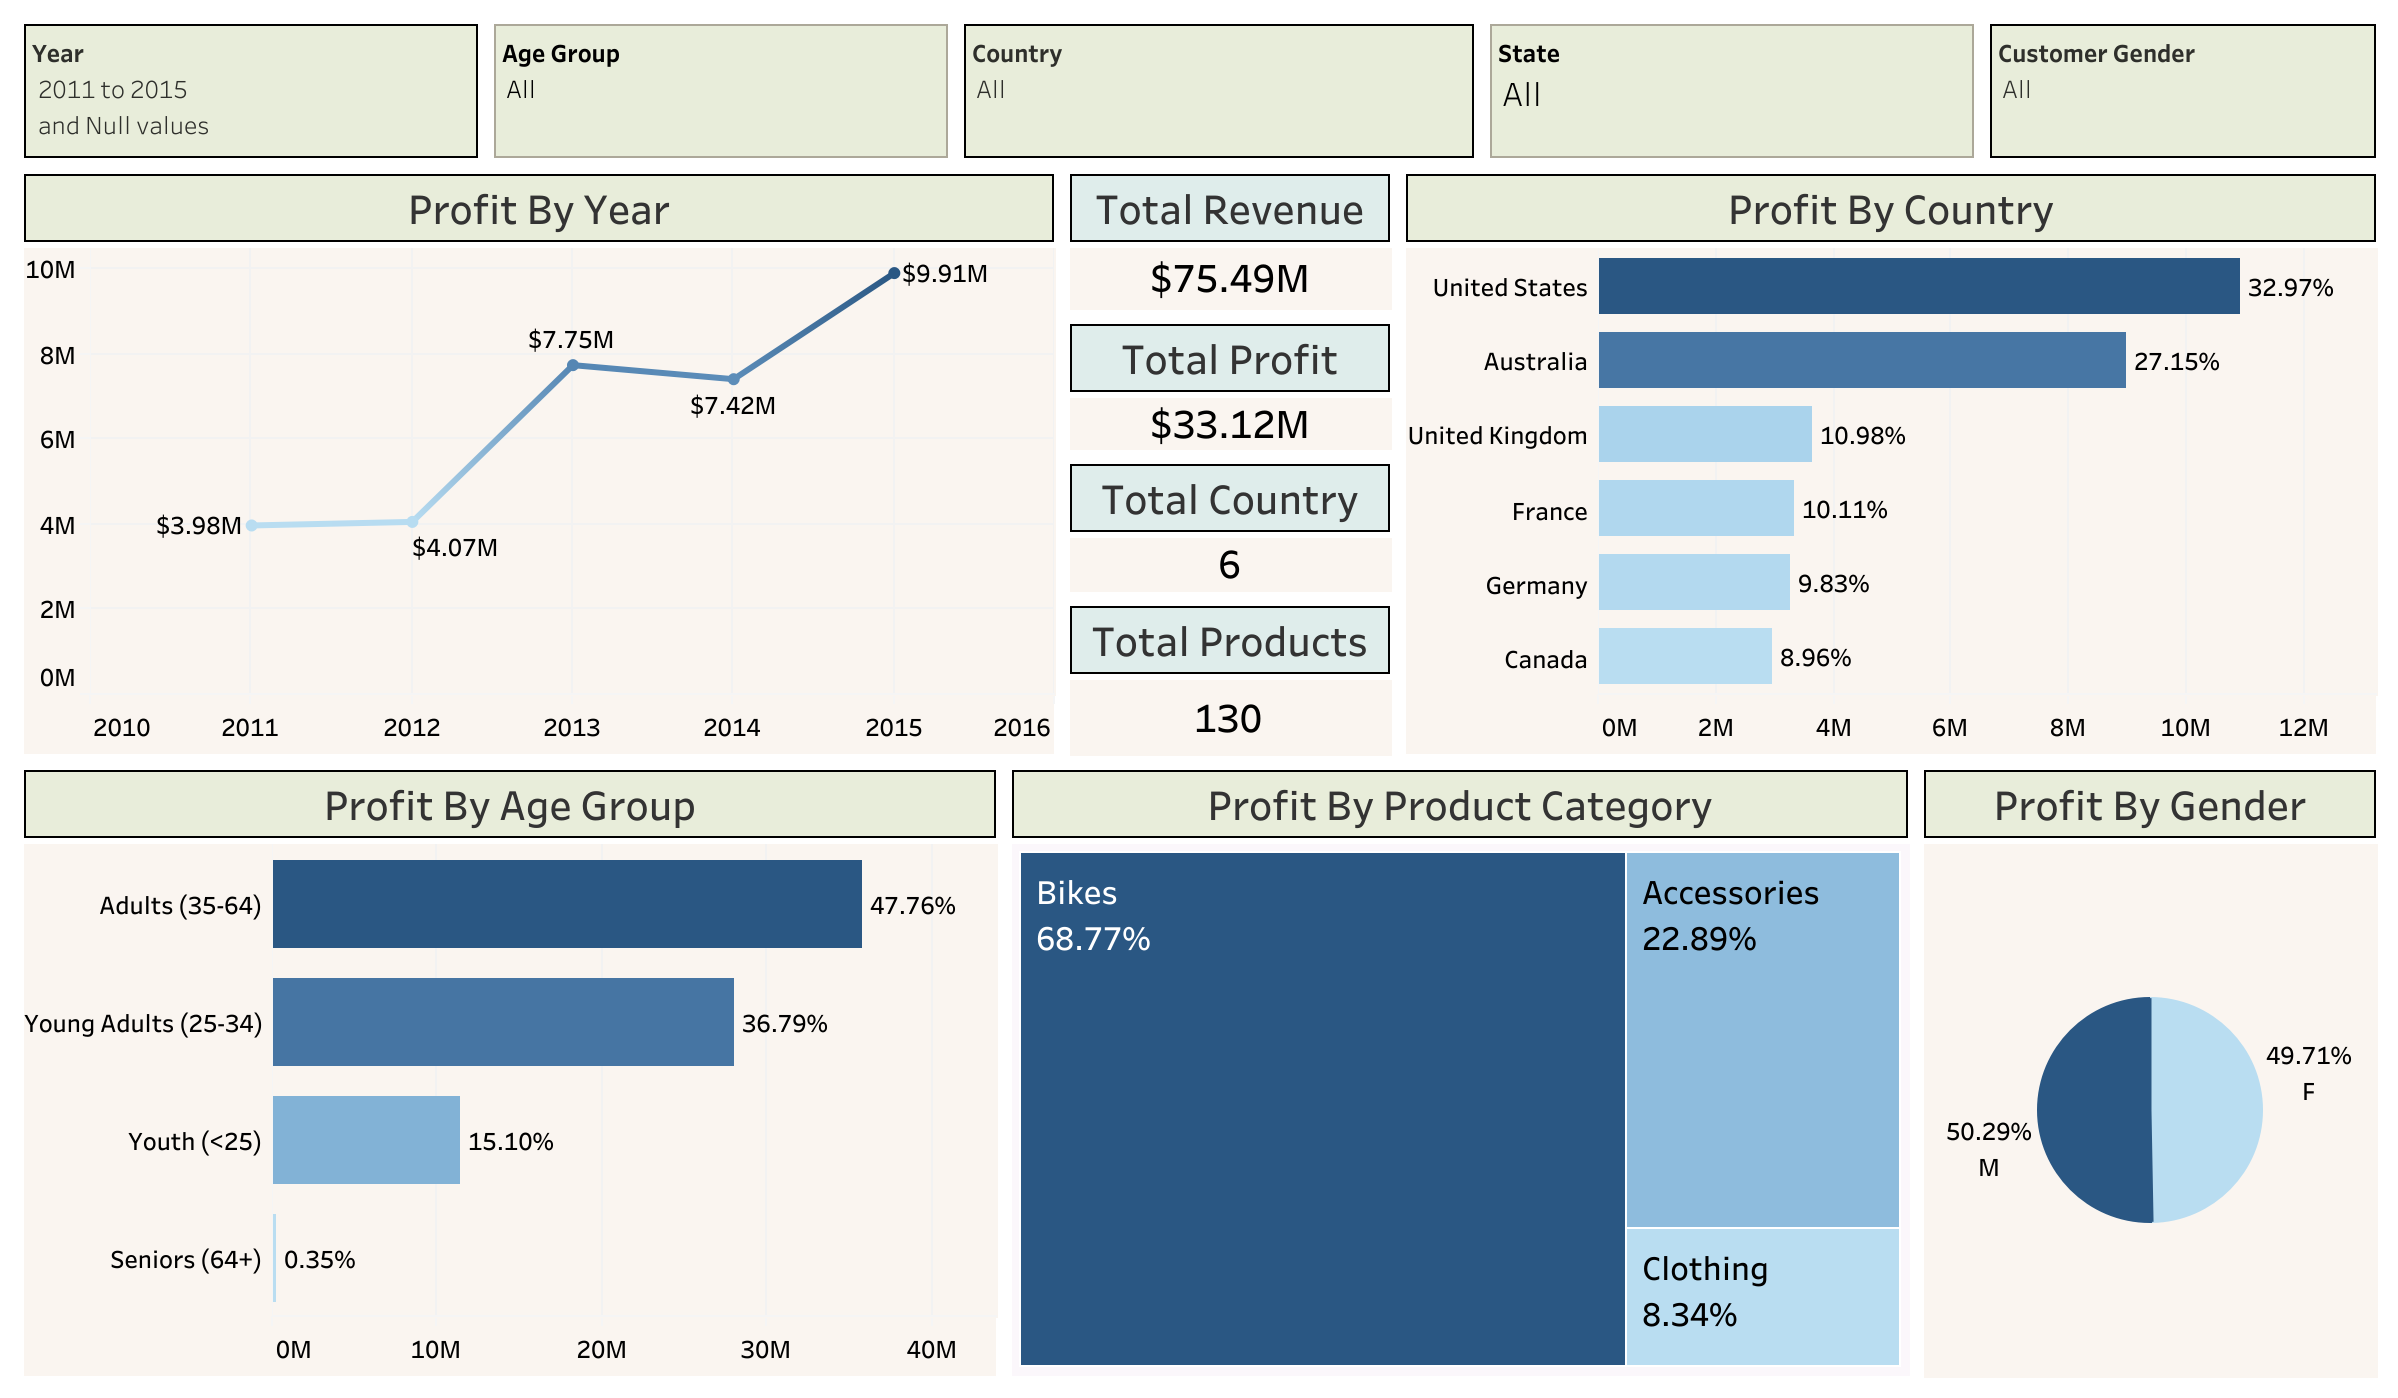

What the dashboard file says about the page in this screenshot:
{"tool":"tableau","page":{"name":"Profit Dashboard","canvas":[1200,700],"ordinal":0},"visuals":[{"type":"filter","title":"Profit By Age Group","param":"[federated.0jcqpx61dg5f2912zdho21k6b4t5].[none:Year:qk]","box":[8,8,235,75]},{"type":"filter","title":"Profit By Gender","param":"[federated.0jcqpx61dg5f2912zdho21k6b4t5].[none:Age_Group:nk]","box":[243,8,235,75]},{"type":"filter","title":"Profit By Age Group","param":"[federated.0jcqpx61dg5f2912zdho21k6b4t5].[none:Country:nk]","box":[478,8,263,75]},{"type":"filter","title":"Profit By Country","param":"[federated.0jcqpx61dg5f2912zdho21k6b4t5].[none:State:nk]","box":[741,8,250,75]},{"type":"filter","title":"Profit By Age Group","param":"[federated.0jcqpx61dg5f2912zdho21k6b4t5].[none:Customer_Gender:nk]","box":[991,8,201,75]},{"type":"worksheet","title":"Profit By Year","mark":"Automatic","rows":["Calculation_1047720274414673922"],"cols":["Year"],"box":[8,83,523,298]},{"type":"worksheet","title":"Total Revenue","mark":"Automatic","box":[531,83,168,75]},{"type":"worksheet","title":"Profit By Country","mark":"Automatic","rows":["Country"],"cols":["Calculation_1047720274414673922"],"box":[699,83,493,298]},{"type":"worksheet","title":"Total Profit","mark":"Automatic","box":[531,158,168,70]},{"type":"worksheet","title":"Total Country","mark":"Automatic","box":[531,228,168,71]},{"type":"worksheet","title":"Total Products","mark":"Automatic","box":[531,299,168,82]},{"type":"worksheet","title":"Profit By Age Group","mark":"Automatic","rows":["Age_Group"],"cols":["Calculation_1047720274414223361"],"box":[8,380.9,494,311.1]},{"type":"worksheet","title":"Profit By Product Category","mark":"Automatic","box":[502,380.9,456,311.1]},{"type":"worksheet","title":"Profit By Gender","mark":"Pie","box":[958,380.9,234,311.1]}]}

Visuals, with their boxes in screenshot pixels (x1, y1, x2, y2), scaled from the page's 1200x700 canvas onto the 2398x1398 screenshot:
"Profit By Age Group" filter: 16, 16, 486, 166
"Profit By Gender" filter: 486, 16, 955, 166
"Profit By Age Group" filter: 955, 16, 1481, 166
"Profit By Country" filter: 1481, 16, 1980, 166
"Profit By Age Group" filter: 1980, 16, 2382, 166
"Profit By Year" worksheet: 16, 166, 1061, 761
"Total Revenue" worksheet: 1061, 166, 1397, 316
"Profit By Country" worksheet: 1397, 166, 2382, 761
"Total Profit" worksheet: 1061, 316, 1397, 455
"Total Country" worksheet: 1061, 455, 1397, 597
"Total Products" worksheet: 1061, 597, 1397, 761
"Profit By Age Group" worksheet: 16, 761, 1003, 1382
"Profit By Product Category" worksheet: 1003, 761, 1914, 1382
"Profit By Gender" worksheet (Pie marks): 1914, 761, 2382, 1382
